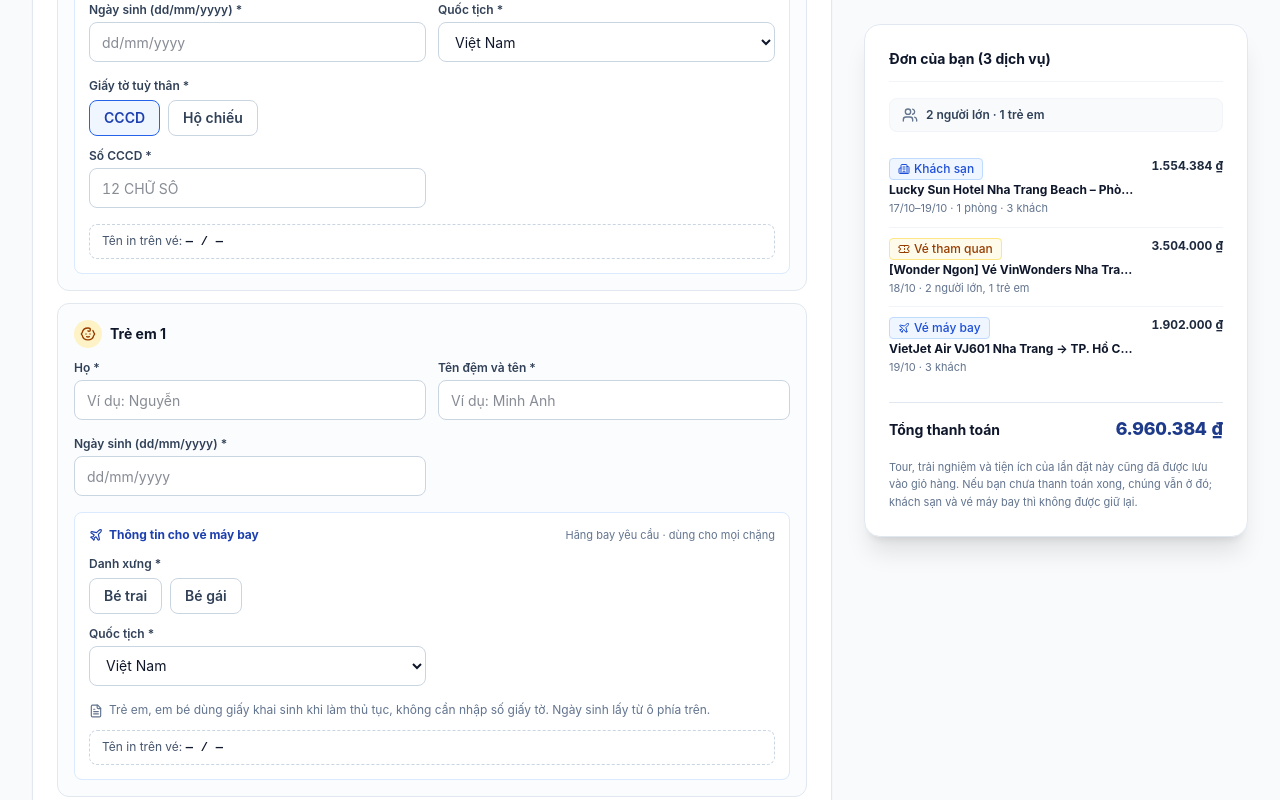
Test: CheckoutView — ba bước › hỏi lại trước khi bỏ một thẻ hành khách đã có dữ liệu
(page scrolled)
Type "Nguyễn" into the field named "Họ (Trẻ em 1)" at [250, 400], box [74,380,426,420]
(page scrolled)
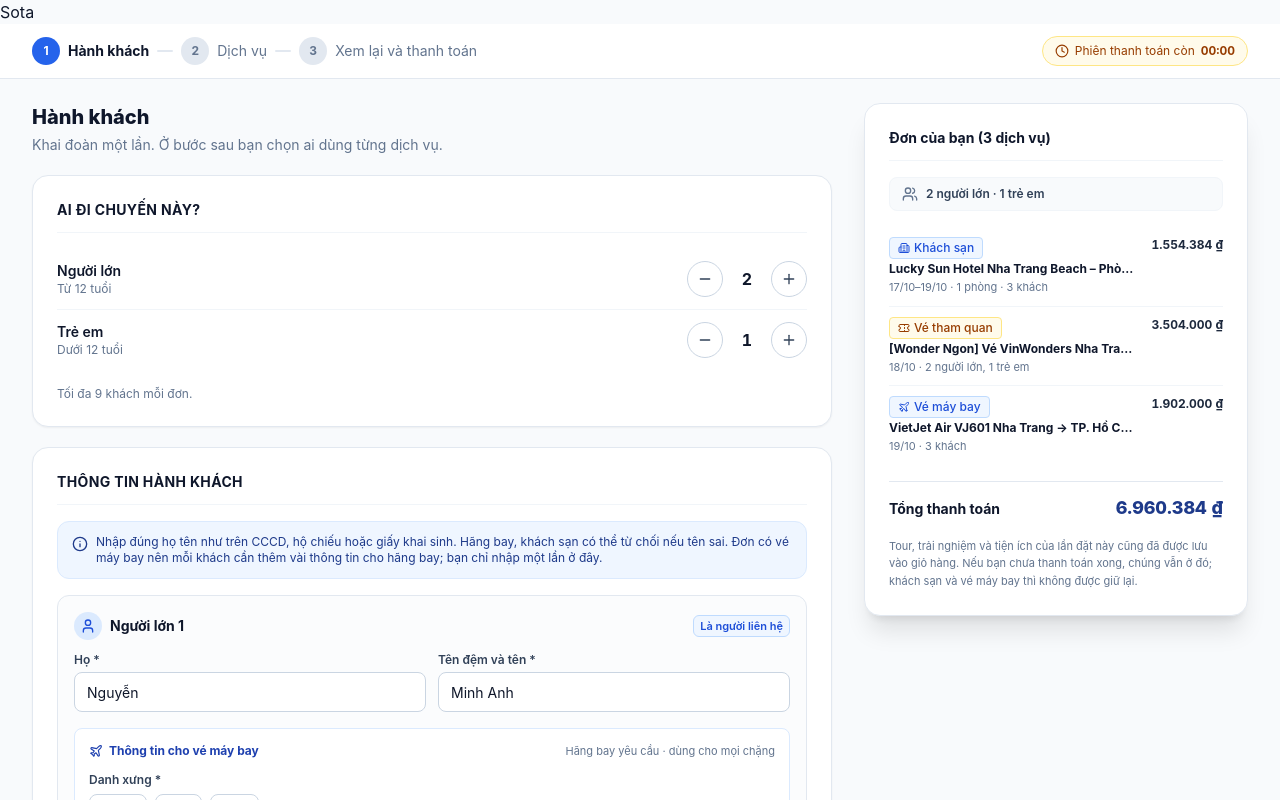
Click the button named "Bớt trẻ em" at [705, 340], box [687,322,723,358]
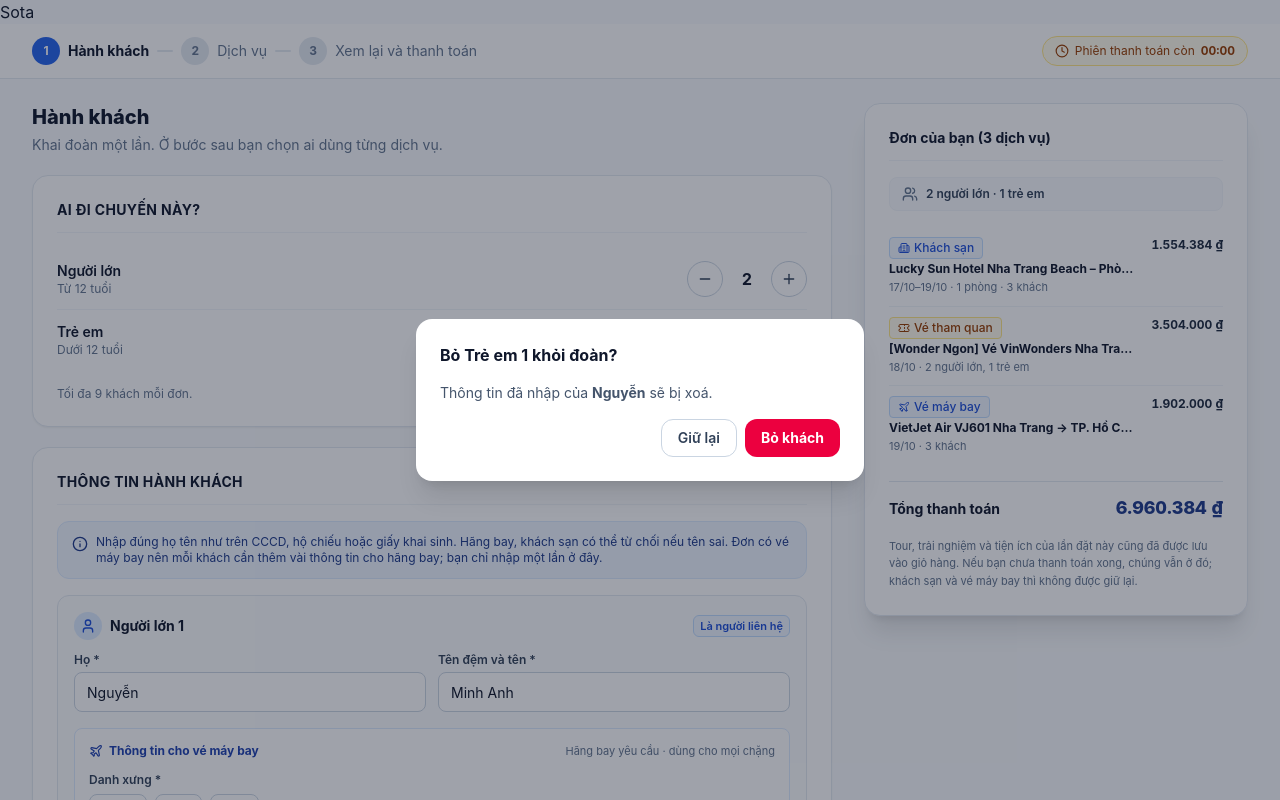
Expected: the dialog named "Xác nhận bỏ khách" shows "Thông tin đã nhập", [440,384,592,401]
Click the button "Giữ lại" at [699, 438], box [661,419,737,457]
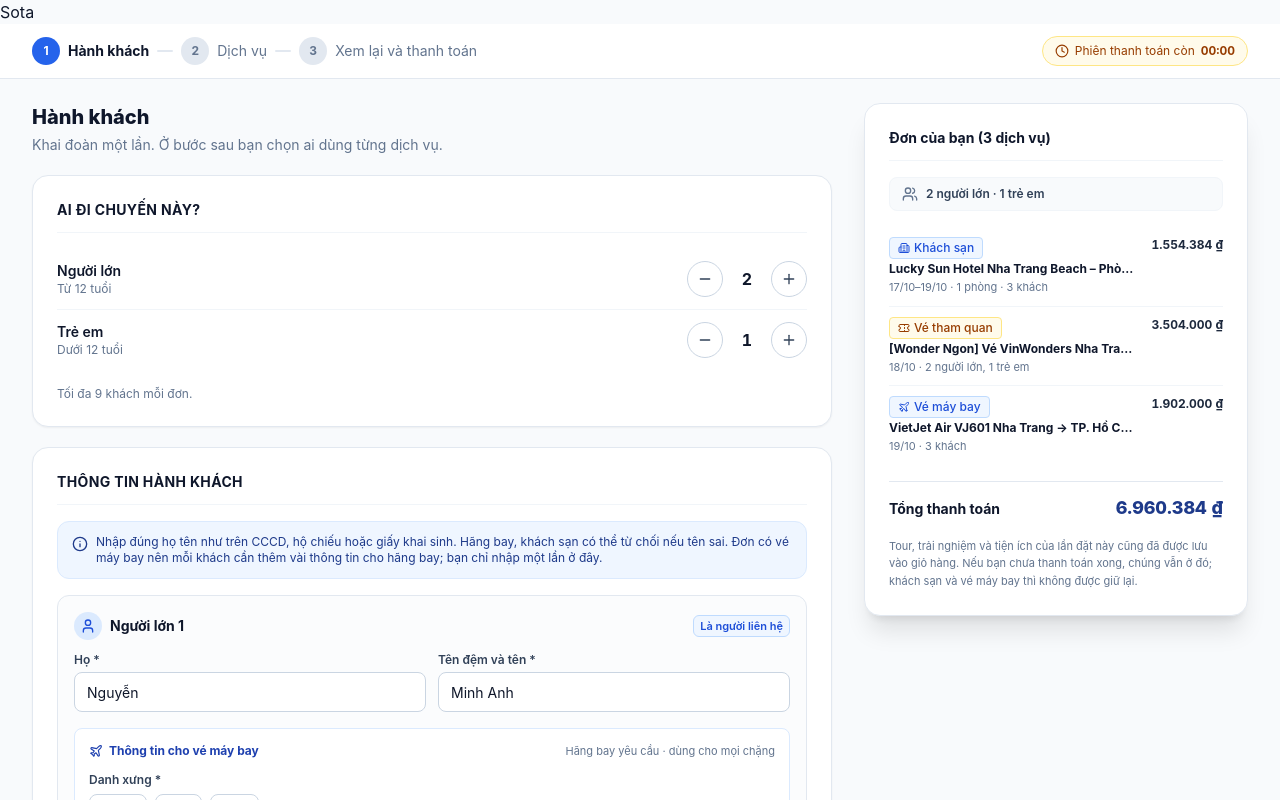
Click the button named "Bớt trẻ em" at [705, 340], box [687,322,723,358]
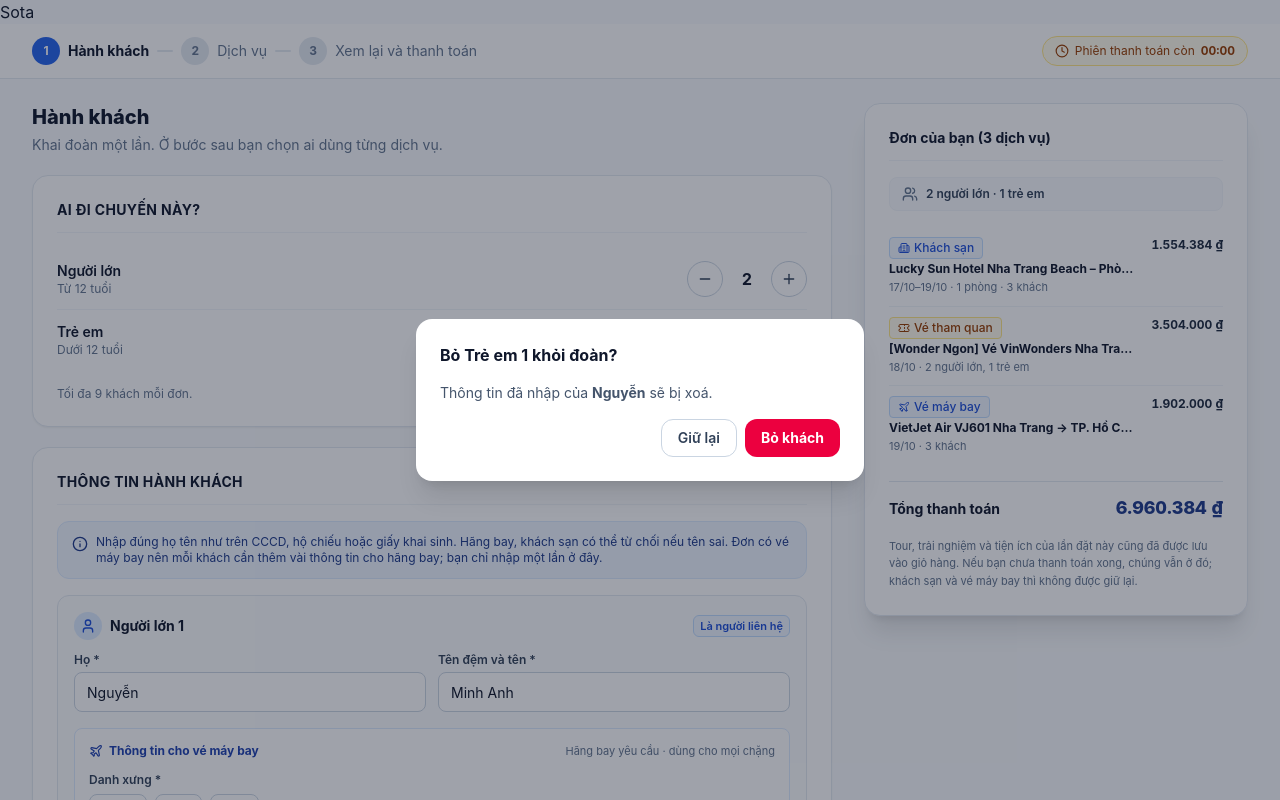
Click the button "Bỏ khách" at [792, 438], box [745,419,840,457]
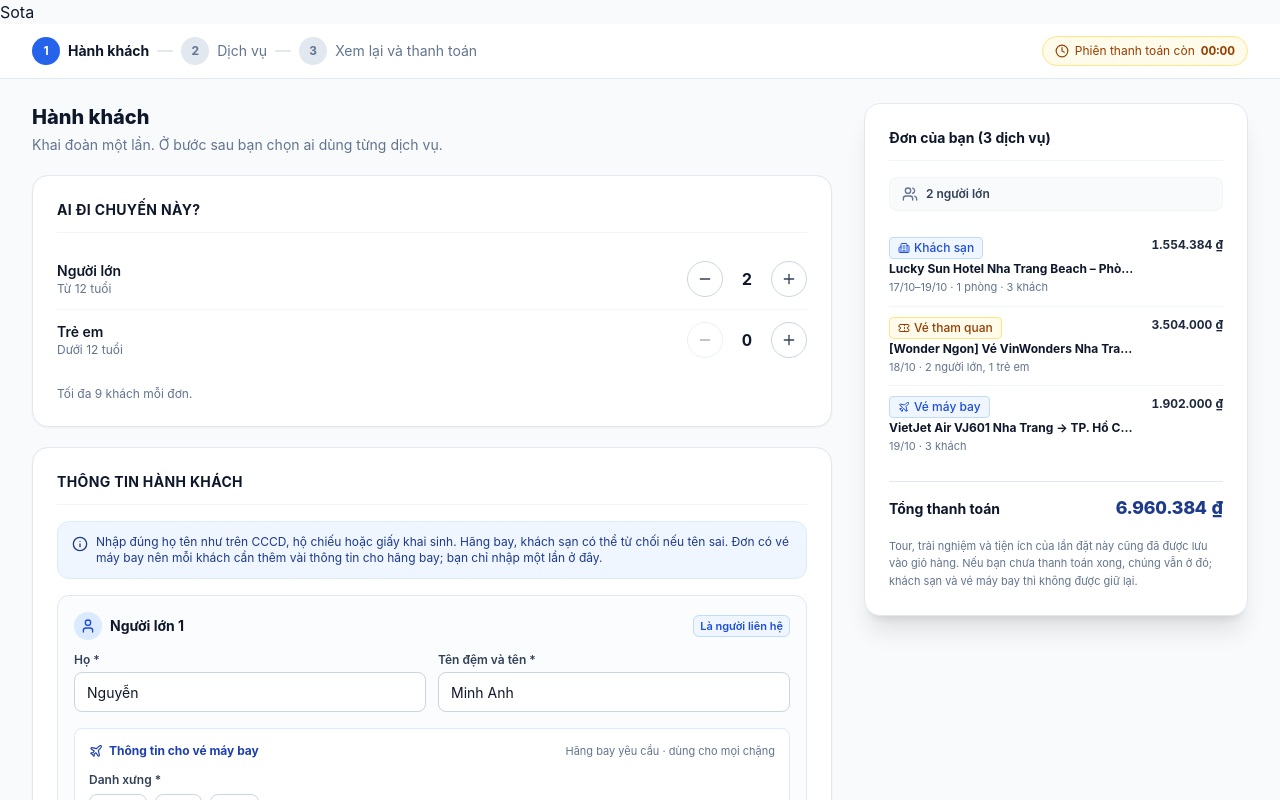
Expected: the number of elements with test id "traveler-card" is 2
